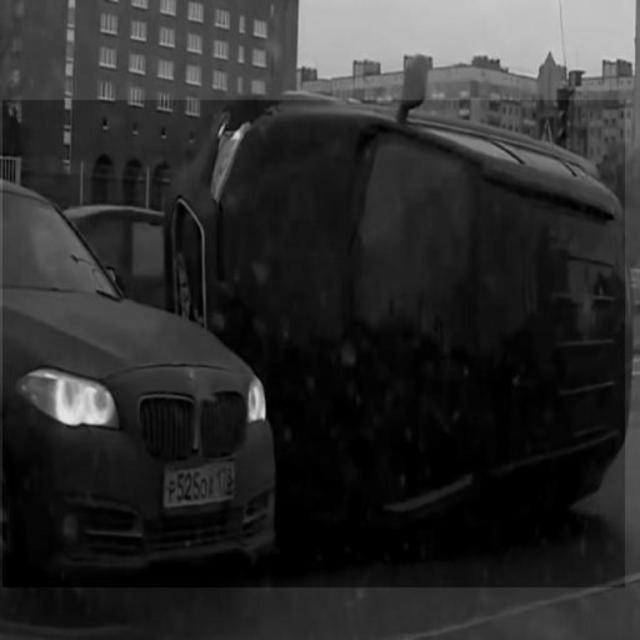accident: (2, 100, 626, 587)
